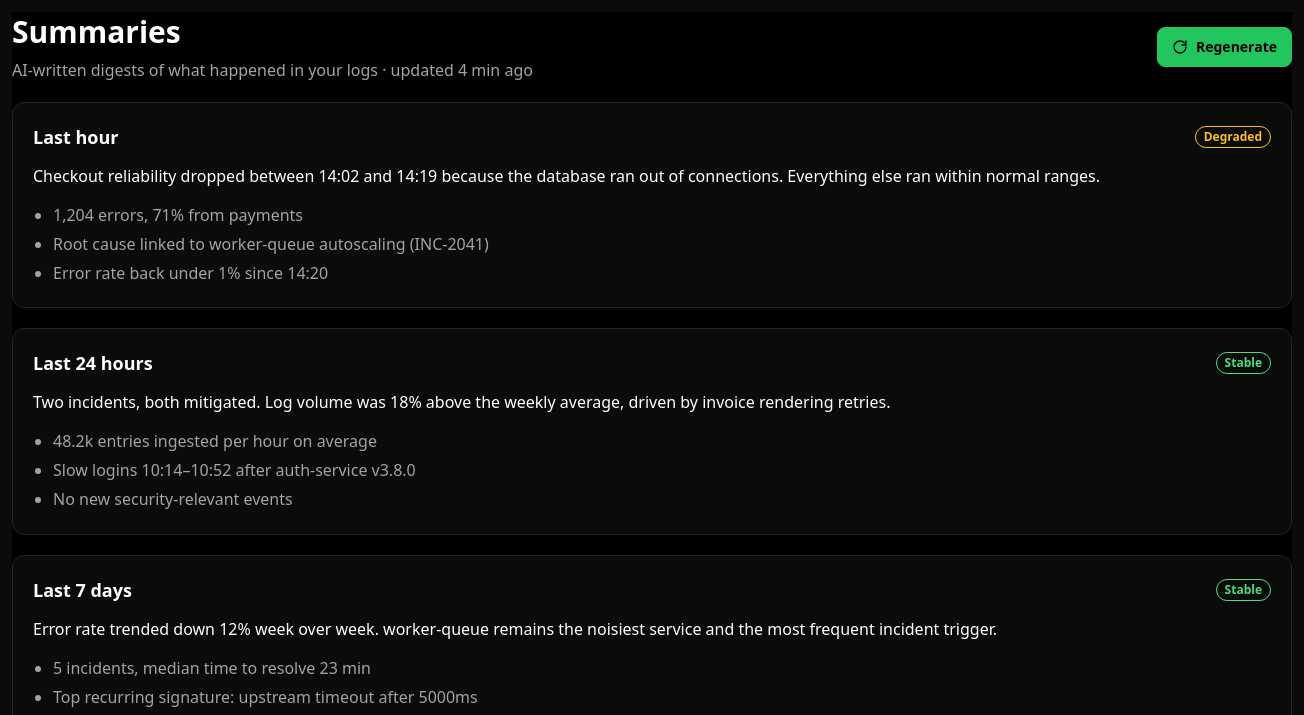
Scenario: SummariesPage › updates the timestamp when regenerated
The width and height of the screenshot is (1304, 715).
Expected: the text "updated 4 min ago" is shown, [12,59,533,81]
Click the button "Regenerate". click: click(1224, 47)
box: [1157,27,1292,67]
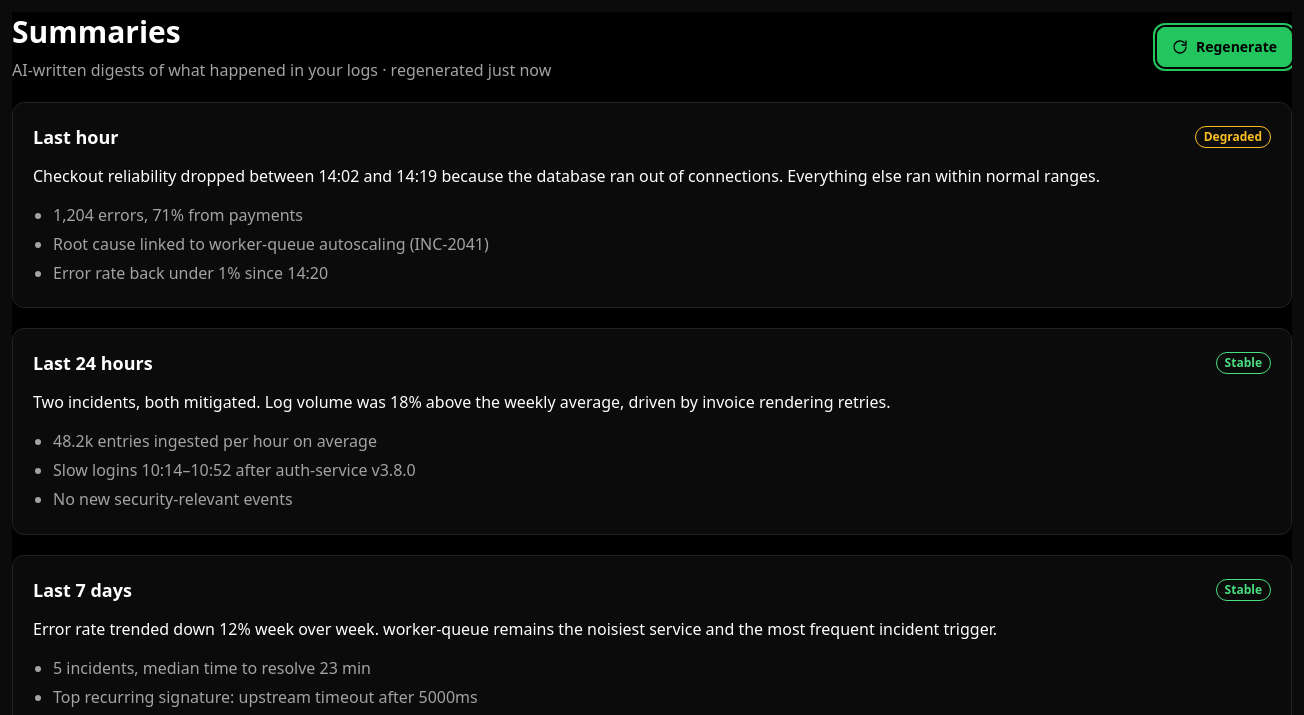
Expected: the text "regenerated just now" is shown, [12,59,551,81]
